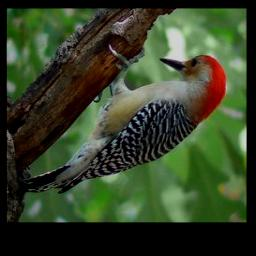Woodpecker: (19, 42, 230, 199)
